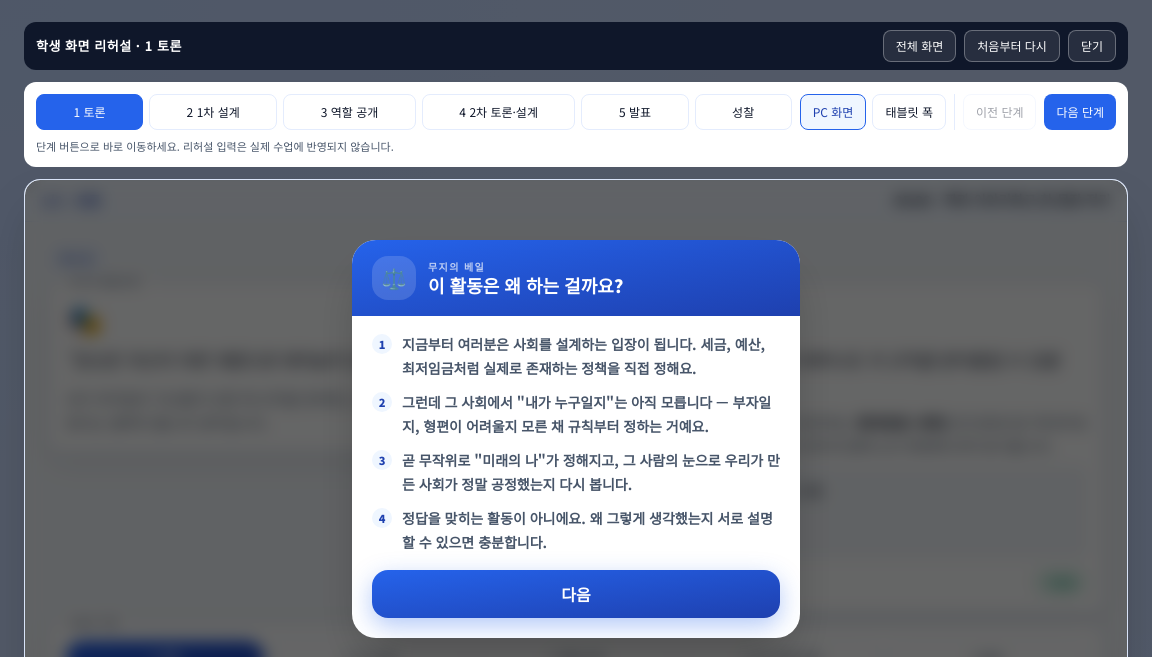
Scenario: 교사 독립 리허설 › PC·태블릿 폭과 전체 화면을 전환해도 선택한 정책을 유지한다
Click the button "2 1차 설계" at (213, 112), box [149,94,277,130]
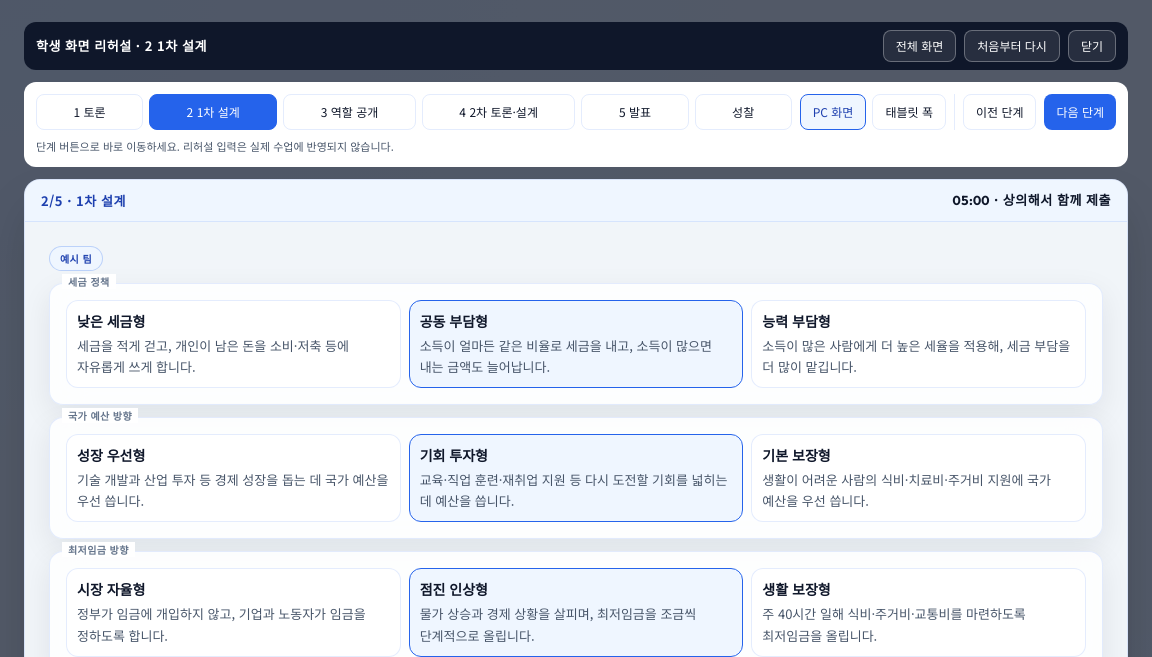
Click the button "낮은 세금형 세금을 적게 걷고, 개인이 남은 돈을 소비·저축 등에 자유롭게 쓰게 합니다." at (233, 344), box [66,300,401,388]
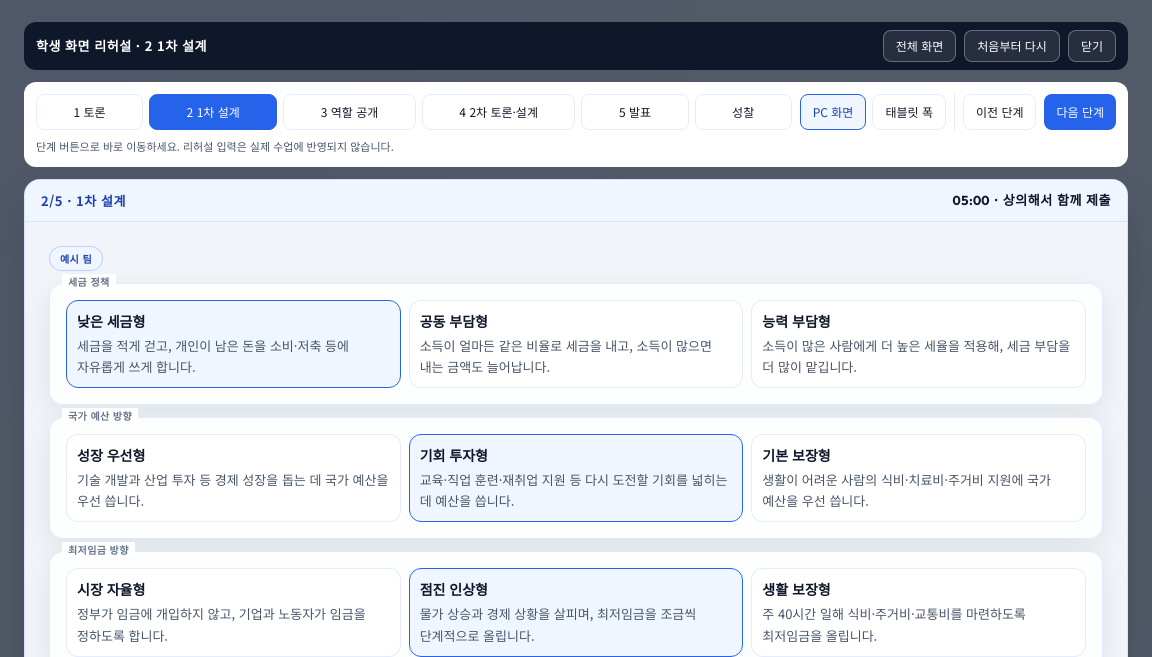
Click the button "태블릿 폭" at (909, 112), box [872,94,946,130]
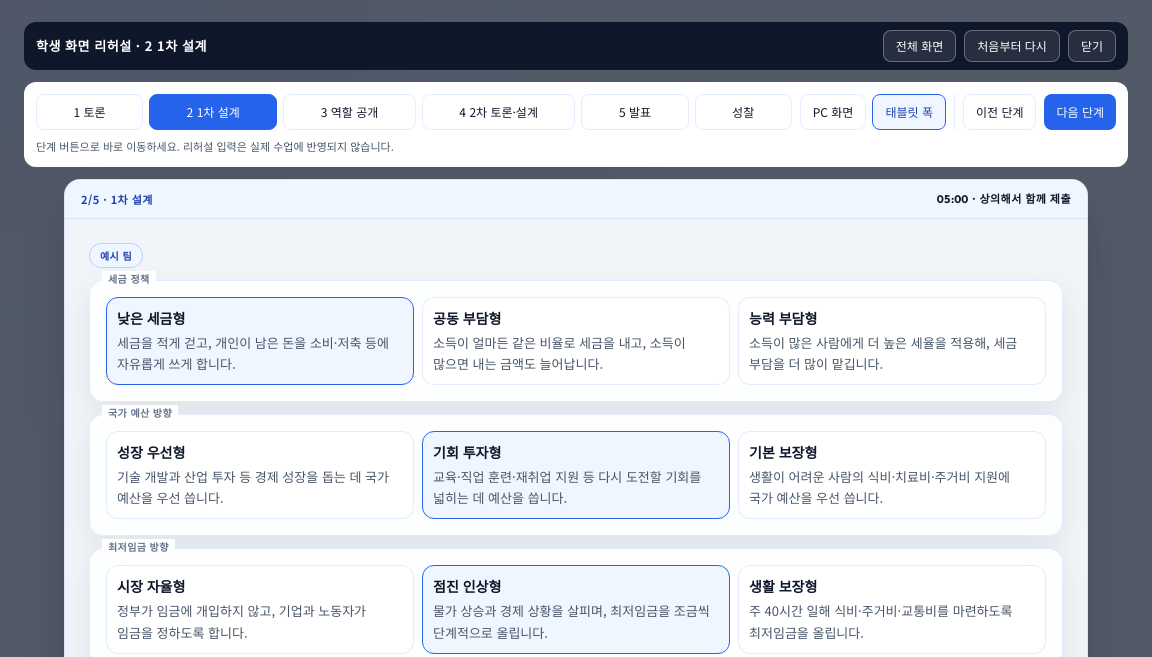
Expected: the button "태블릿 폭" is pressed, [872,94,946,130]
Click the button "전체 화면" at (920, 46), box [883,30,956,62]
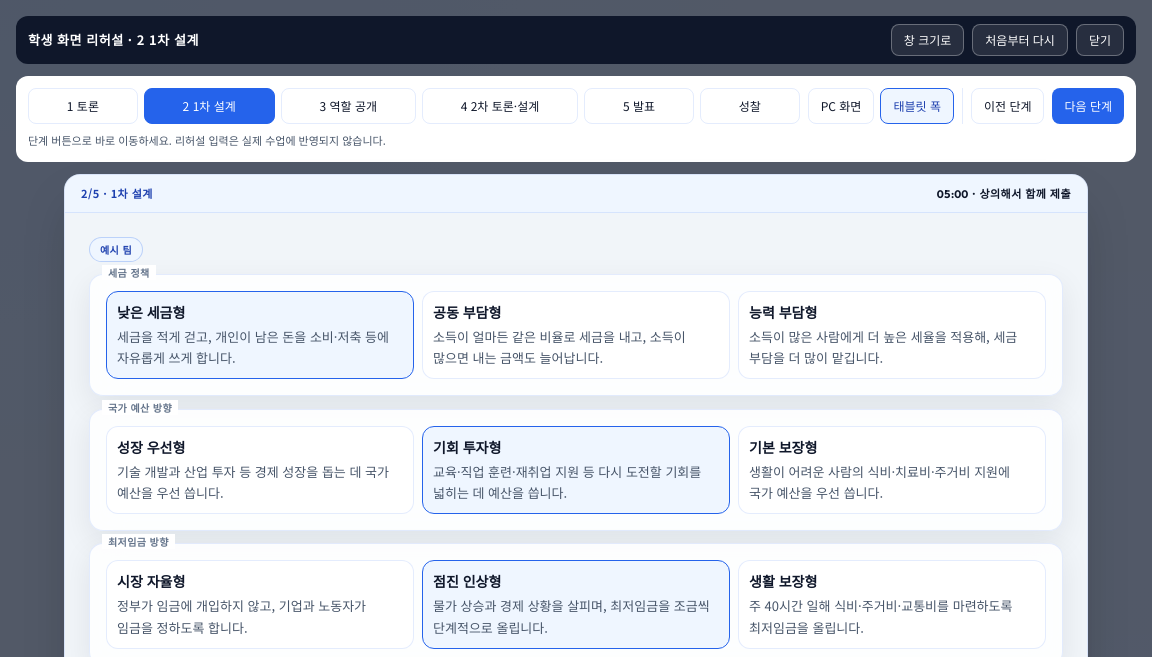
Expected: the button "창 크기로" is shown, [891,24,964,56]
Click the button "4 2차 토론·설계" at (500, 106), box [422,88,578,124]
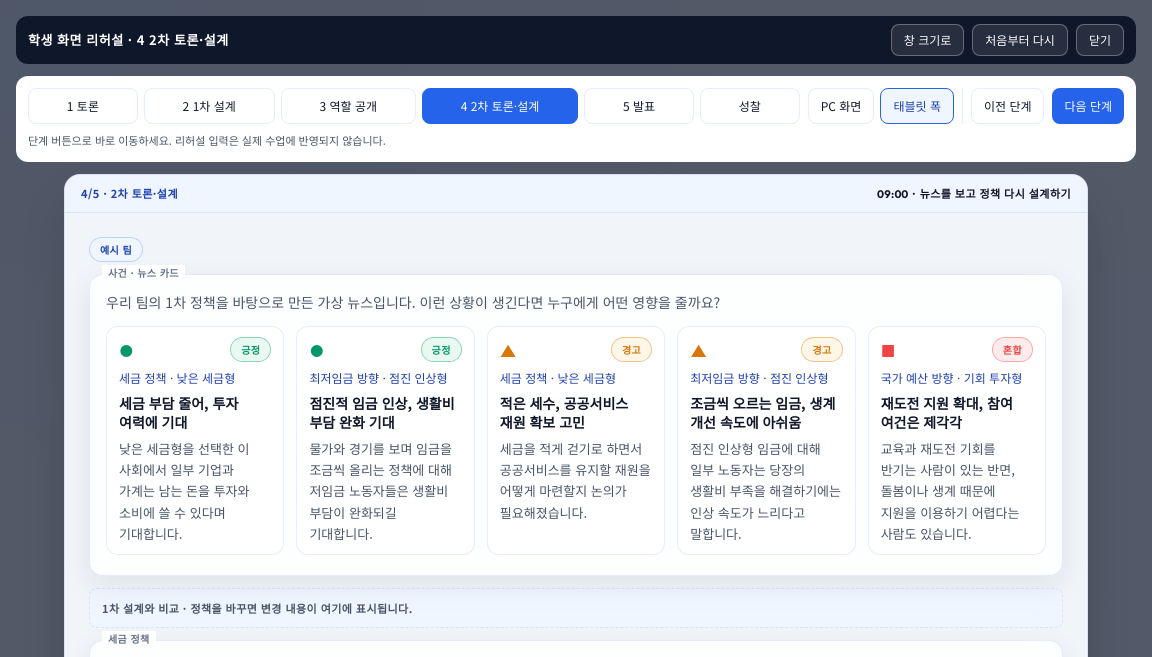
Expected: the text "세금 부담 줄어, 투자 여력에 기대" is shown, [119,393,238,432]
